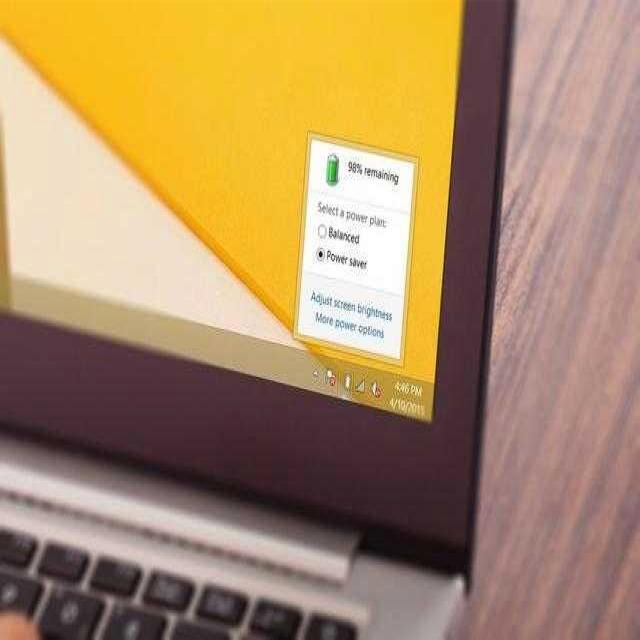-keyboard-: (0, 2, 518, 640)
